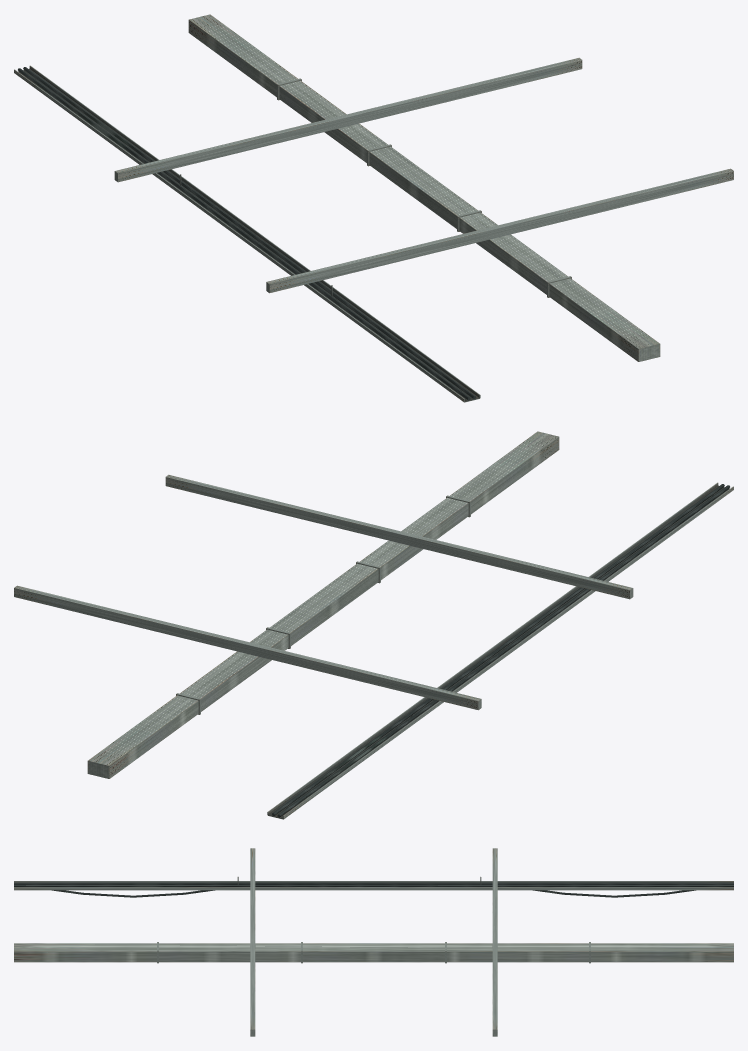
Rendered from ceiling_guard_post.glb.
The picture shows the model from 3 angles, top to bottom: view 1: azimuth 30°, elevation 25°; view 2: azimuth 150°, elevation 25°; view 3: azimuth 270°, elevation 25°; orthographic projection. The views are drawn at different scales.
Visible parts, largest first — view 1: Ceiling; view 2: Ceiling; view 3: Ceiling.
Part boxes in pixels (x1,y1,x2,y2): Ceiling: (14,14,733,402); Ceiling: (14,431,733,819); Ceiling: (14,848,733,1036).
Size of the model in its own units: 11.8 by 0.7785 by 19.8.
Materials: 1 (1 with a texture image).
